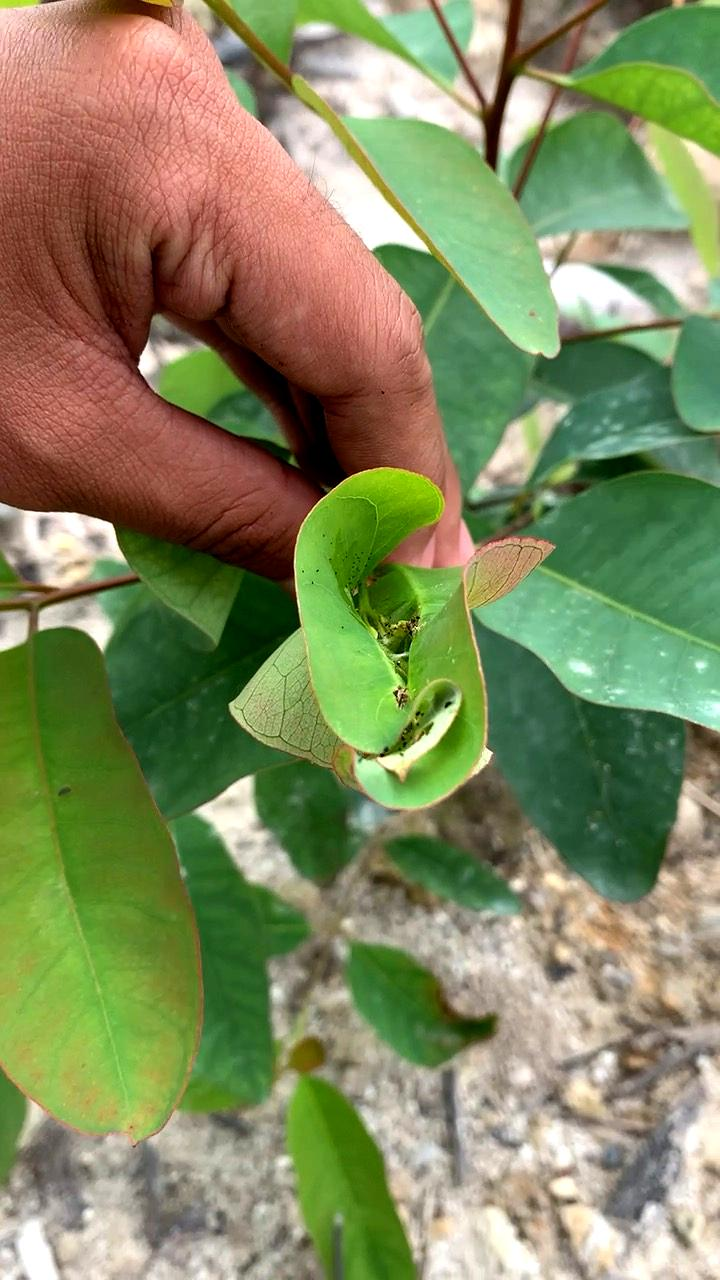Leaf Roller - Leaf: (251, 473, 538, 880)
